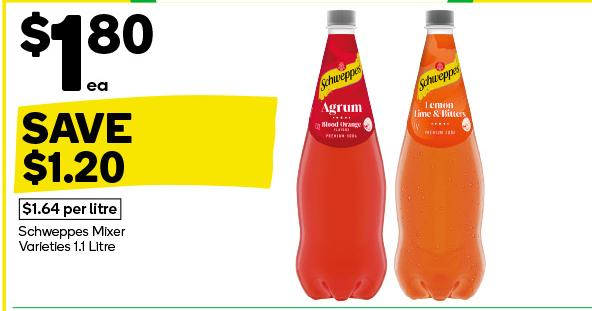description_block: (13, 219, 132, 261)
price_main: (11, 5, 167, 95)
product_image_block: (283, 5, 501, 305)
promo_text_block: (5, 98, 292, 195)
unit_price_block: (13, 194, 124, 223)
